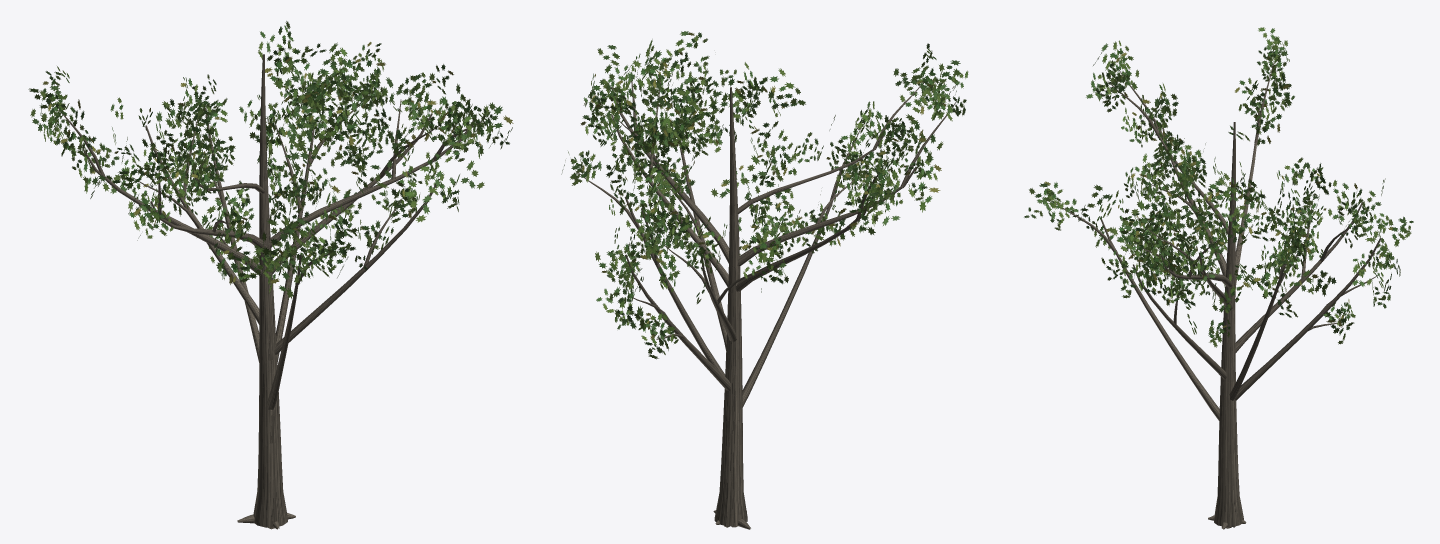
Rendered from red_maple_LOD2.glb.
3 renders of one model, left to right at view 1: azimuth 30°, elevation 25°; view 2: azimuth 150°, elevation 25°; view 3: azimuth 270°, elevation 25°, orthographic. The views are drawn at different scales.
Parts seen in each view (by area): view 1: red_maple_foliage, red_maple_wood; view 2: red_maple_foliage, red_maple_wood; view 3: red_maple_foliage, red_maple_wood.
Part boxes in pixels (box(x1,y1,x2,y2)): red_maple_foliage: box(28, 21, 513, 298); red_maple_wood: box(58, 54, 481, 529); red_maple_foliage: box(561, 31, 968, 359); red_maple_wood: box(577, 72, 956, 529); red_maple_foliage: box(1024, 27, 1413, 347); red_maple_wood: box(1055, 62, 1381, 529).
Bounding box in the file's own units: 12.7 × 14.88 × 12.65.
2 materials, 2 textured.
